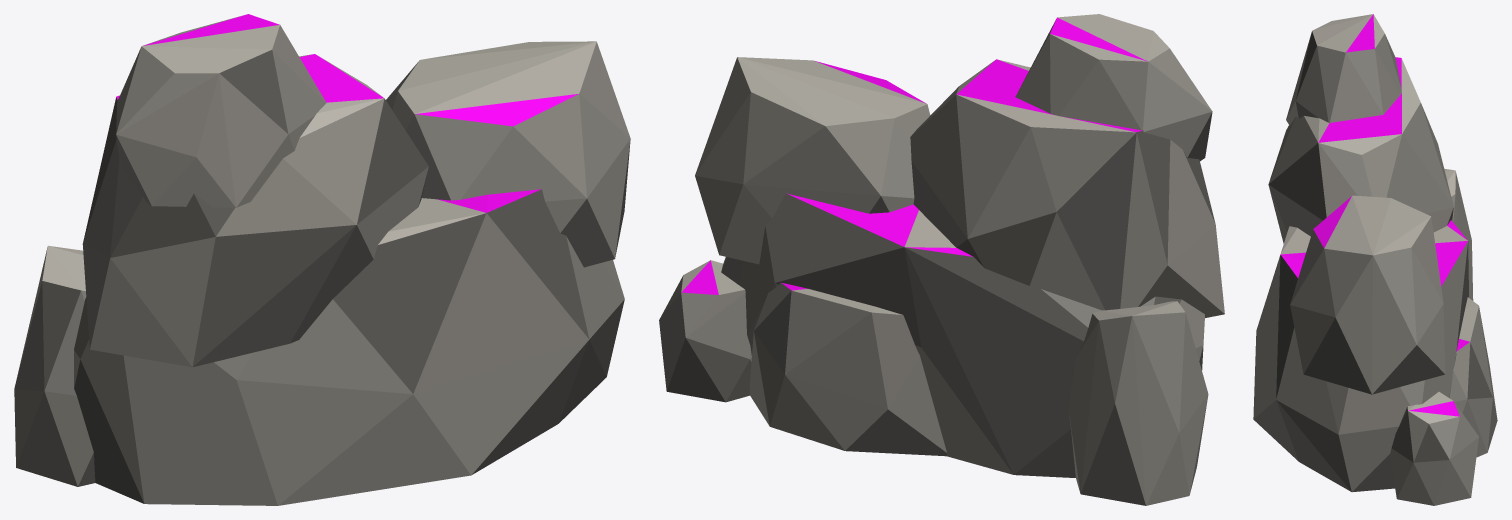
Rendered from rock_cliff.glb.
3 views of the same model, side by side, from view 1: azimuth 30°, elevation 25°; view 2: azimuth 150°, elevation 25°; view 3: azimuth 270°, elevation 25° (orthographic). The views are drawn at different scales.
Visible parts, largest first — view 1: rock_cliff__mesh; view 2: rock_cliff__mesh; view 3: rock_cliff__mesh.
Part boxes in pixels (<box>): rock_cliff__mesh: <box>14,14,630,505</box>; rock_cliff__mesh: <box>659,14,1224,505</box>; rock_cliff__mesh: <box>1253,14,1497,505</box>.
Bounding box in the file's own units: 8 × 5.8 × 4.
1 material, 1 textured.
